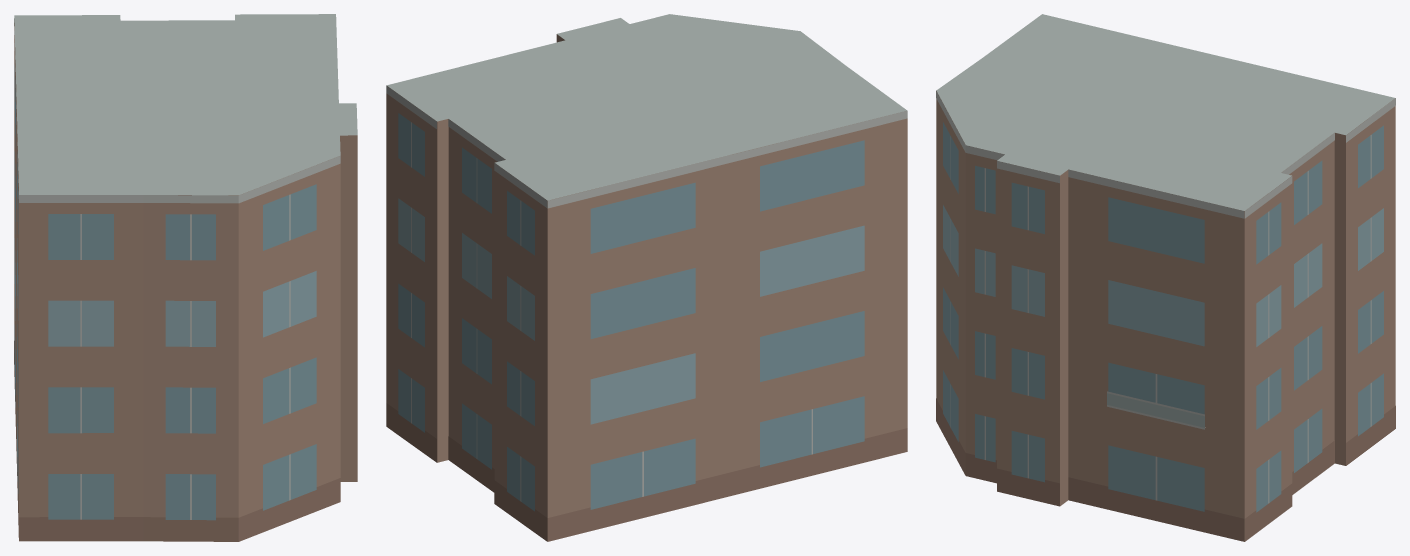
The model's file is survey-upis-33041068.glb.
3 views of the same model, side by side, from view 1: azimuth 30°, elevation 25°; view 2: azimuth 150°, elevation 25°; view 3: azimuth 270°, elevation 25° (orthographic). The views are drawn at different scales.
Parts seen in each view (by area): view 1: survey-upis-33041068.tmp; view 2: survey-upis-33041068.tmp; view 3: survey-upis-33041068.tmp.
Part boxes in pixels (bbox=[...]): survey-upis-33041068.tmp: bbox=[14, 14, 357, 541]; survey-upis-33041068.tmp: bbox=[386, 14, 907, 541]; survey-upis-33041068.tmp: bbox=[936, 14, 1395, 541].
Bounding box in the file's own units: 13.43 × 10.5 × 13.23.
